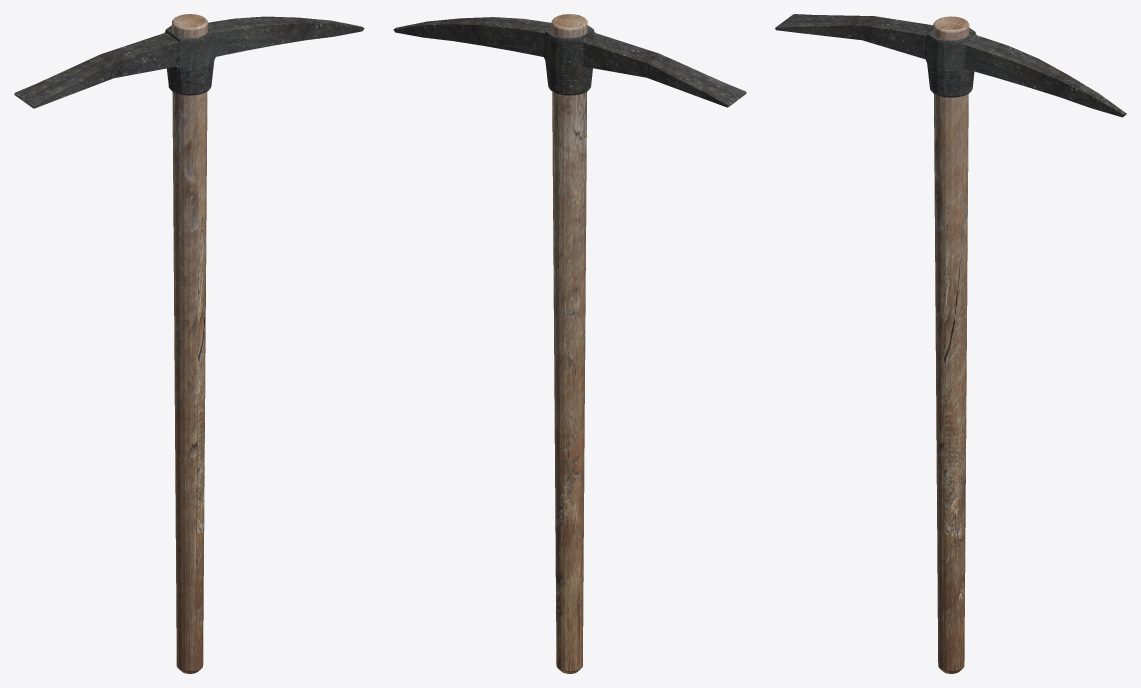
Rendered from Pickaxe.fbx.
3 views of the same model, side by side, from view 1: azimuth 30°, elevation 25°; view 2: azimuth 150°, elevation 25°; view 3: azimuth 330°, elevation 25° (orthographic).
Parts seen in each view (by area): view 1: Pick Axe; view 2: Pick Axe; view 3: Pick Axe.
Boxes of the visible parts, x1,y1,x2,y2 form: Pick Axe: (14,14,364,673); Pick Axe: (393,14,746,673); Pick Axe: (775,14,1126,673).
Size of the model in its own units: 72.6 by 132 by 8.05.
